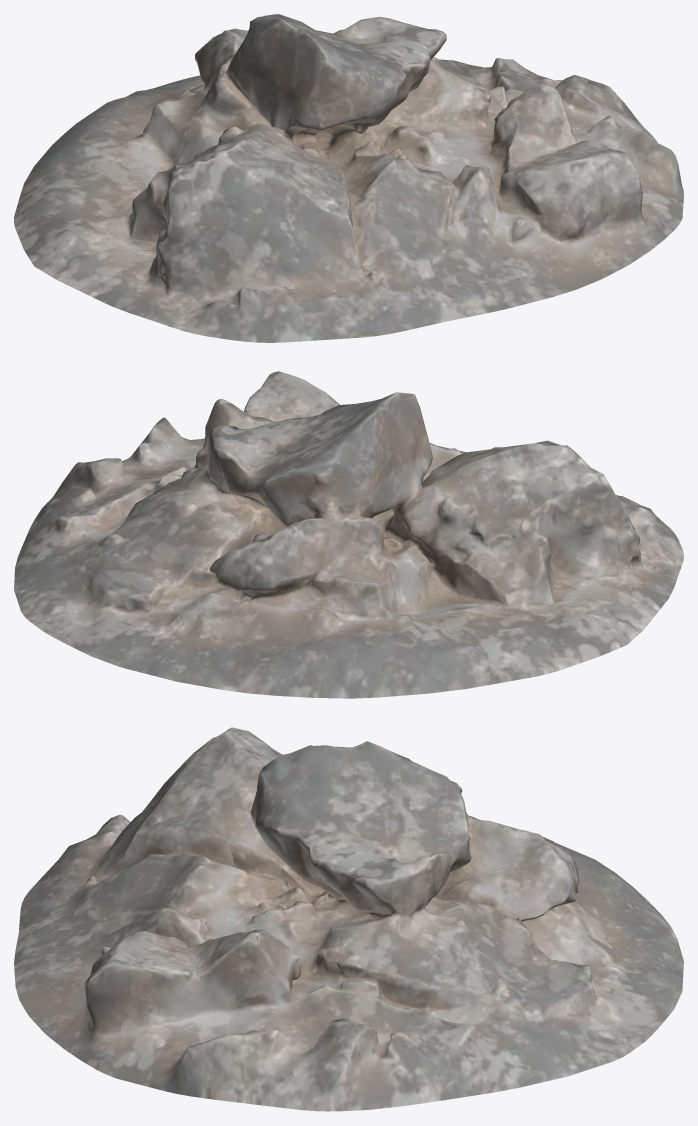
File: rock_formation_medium_c.glb
The picture shows the model from 3 angles, top to bottom: view 1: azimuth 30°, elevation 25°; view 2: azimuth 150°, elevation 25°; view 3: azimuth 270°, elevation 25°; orthographic projection. The views are drawn at different scales.
Parts seen in each view (by area): view 1: rock_formation_mid_c_LOD0; view 2: rock_formation_mid_c_LOD0; view 3: rock_formation_mid_c_LOD0.
Boxes of the visible parts, x1,y1,x2,y2 form: rock_formation_mid_c_LOD0: (14, 14, 683, 342); rock_formation_mid_c_LOD0: (14, 371, 683, 698); rock_formation_mid_c_LOD0: (14, 727, 683, 1111).
Bounding box in the file's own units: 7.48 × 2.17 × 6.85.
Materials: 1 (1 with a texture image).
